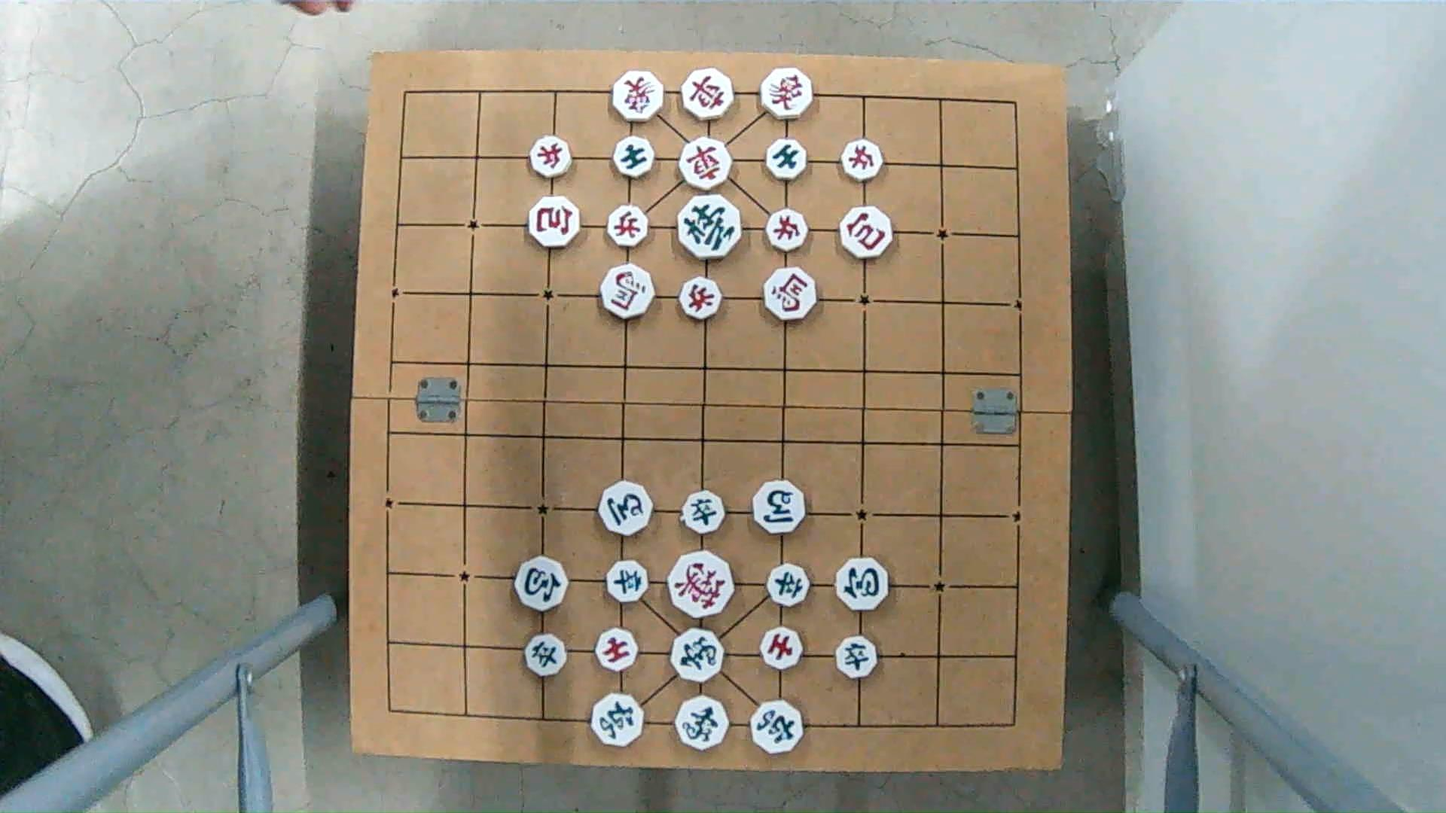cha_green: (752, 698, 804, 754), (592, 696, 646, 746)
cha_red: (681, 141, 736, 191), (682, 72, 738, 119)
jol_green: (766, 560, 814, 610), (682, 491, 727, 534), (526, 636, 569, 677), (833, 639, 878, 678), (609, 562, 652, 602)
jol_red: (525, 137, 573, 181), (677, 276, 725, 320), (837, 140, 886, 183), (609, 205, 652, 249), (765, 206, 809, 248)
ma_green: (752, 482, 807, 534), (597, 483, 653, 533)
ma_red: (595, 263, 658, 317), (764, 270, 818, 318)
po_green: (516, 559, 572, 611), (837, 561, 892, 610)
po_red: (530, 199, 585, 248), (837, 209, 893, 254)
sa_green: (765, 139, 809, 178), (614, 138, 657, 177)
sa_red: (762, 627, 807, 668), (596, 629, 640, 668)
sang_green: (673, 696, 731, 751), (670, 626, 725, 684)
sang_red: (762, 71, 818, 119), (613, 74, 669, 121)
wang_green: (679, 199, 743, 261)
wang_red: (668, 553, 737, 617)
